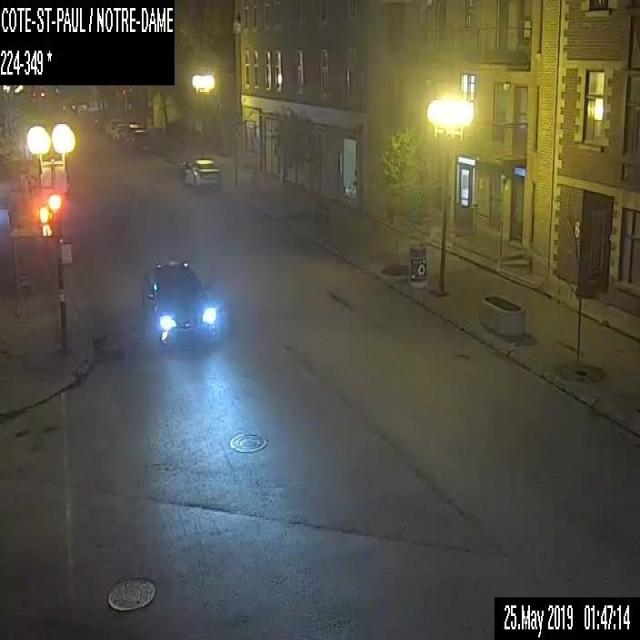vehicle: (145, 255, 218, 352), (184, 157, 219, 188), (119, 124, 146, 148), (104, 119, 120, 137), (178, 158, 191, 177), (112, 122, 126, 139)
